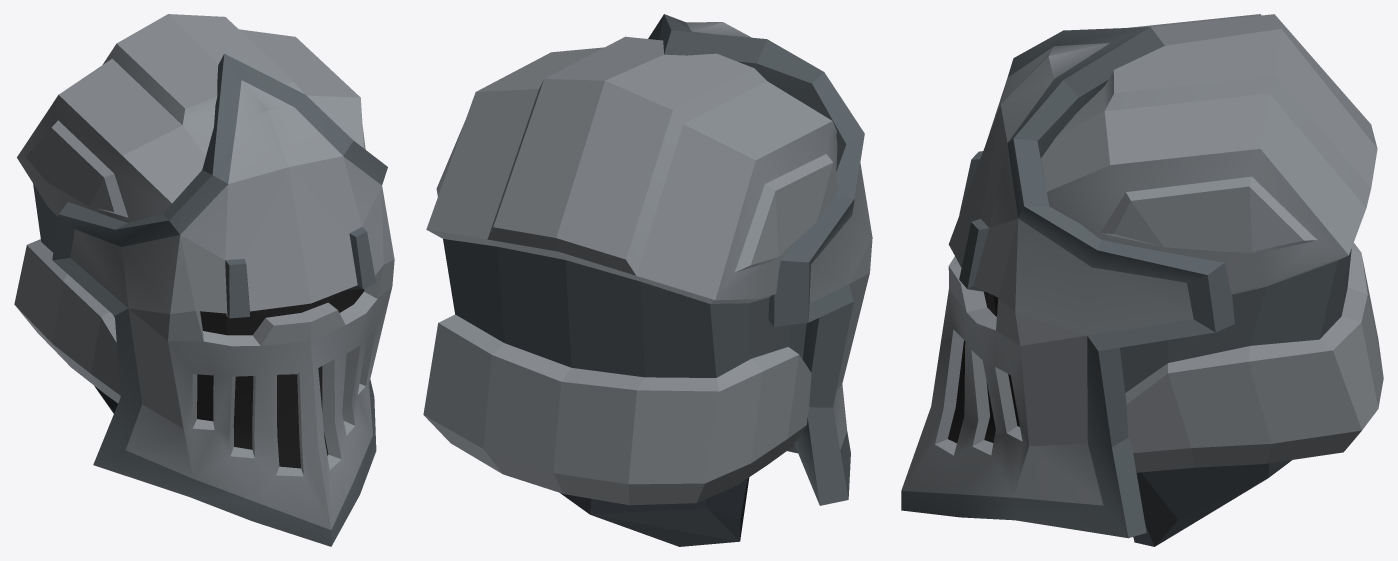
Rendered from Chr_Head_No_Elements_Female_06_Static.fbx.
3 renders of one model, left to right at view 1: azimuth 30°, elevation 25°; view 2: azimuth 150°, elevation 25°; view 3: azimuth 270°, elevation 25°, orthographic. The views are drawn at different scales.
Parts seen in each view (by area): view 1: Chr_Head_No_Elements_Female_06_Static; view 2: Chr_Head_No_Elements_Female_06_Static; view 3: Chr_Head_No_Elements_Female_06_Static.
Part boxes in pixels (x1,y1,x2,y2): Chr_Head_No_Elements_Female_06_Static: (14, 14, 394, 546); Chr_Head_No_Elements_Female_06_Static: (423, 14, 872, 546); Chr_Head_No_Elements_Female_06_Static: (901, 14, 1383, 546).
Bounding box in the file's own units: 0.2623 × 0.3849 × 0.3265.
